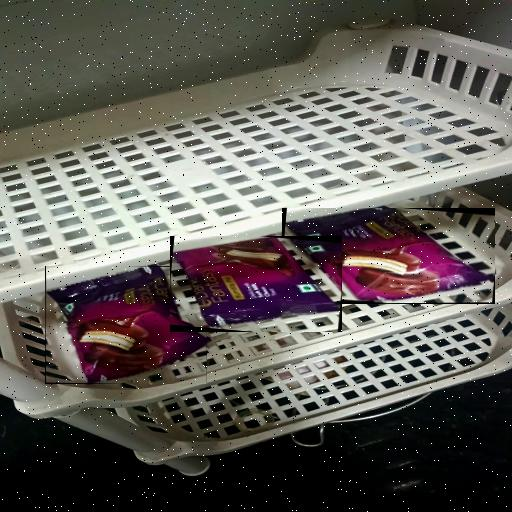Choco Pie: (282, 208, 495, 304), (45, 266, 207, 384), (170, 236, 342, 332)
